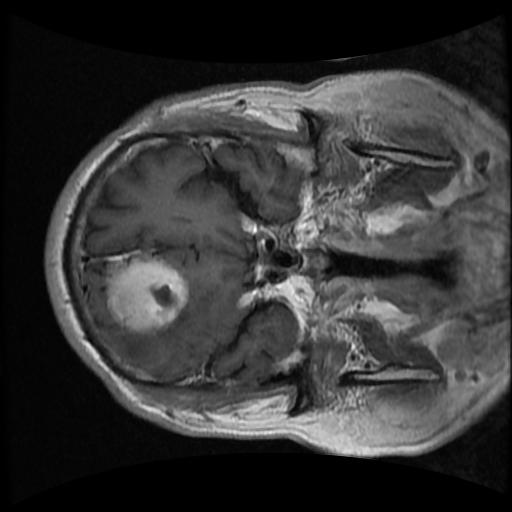meningioma: (104, 256, 188, 334)
